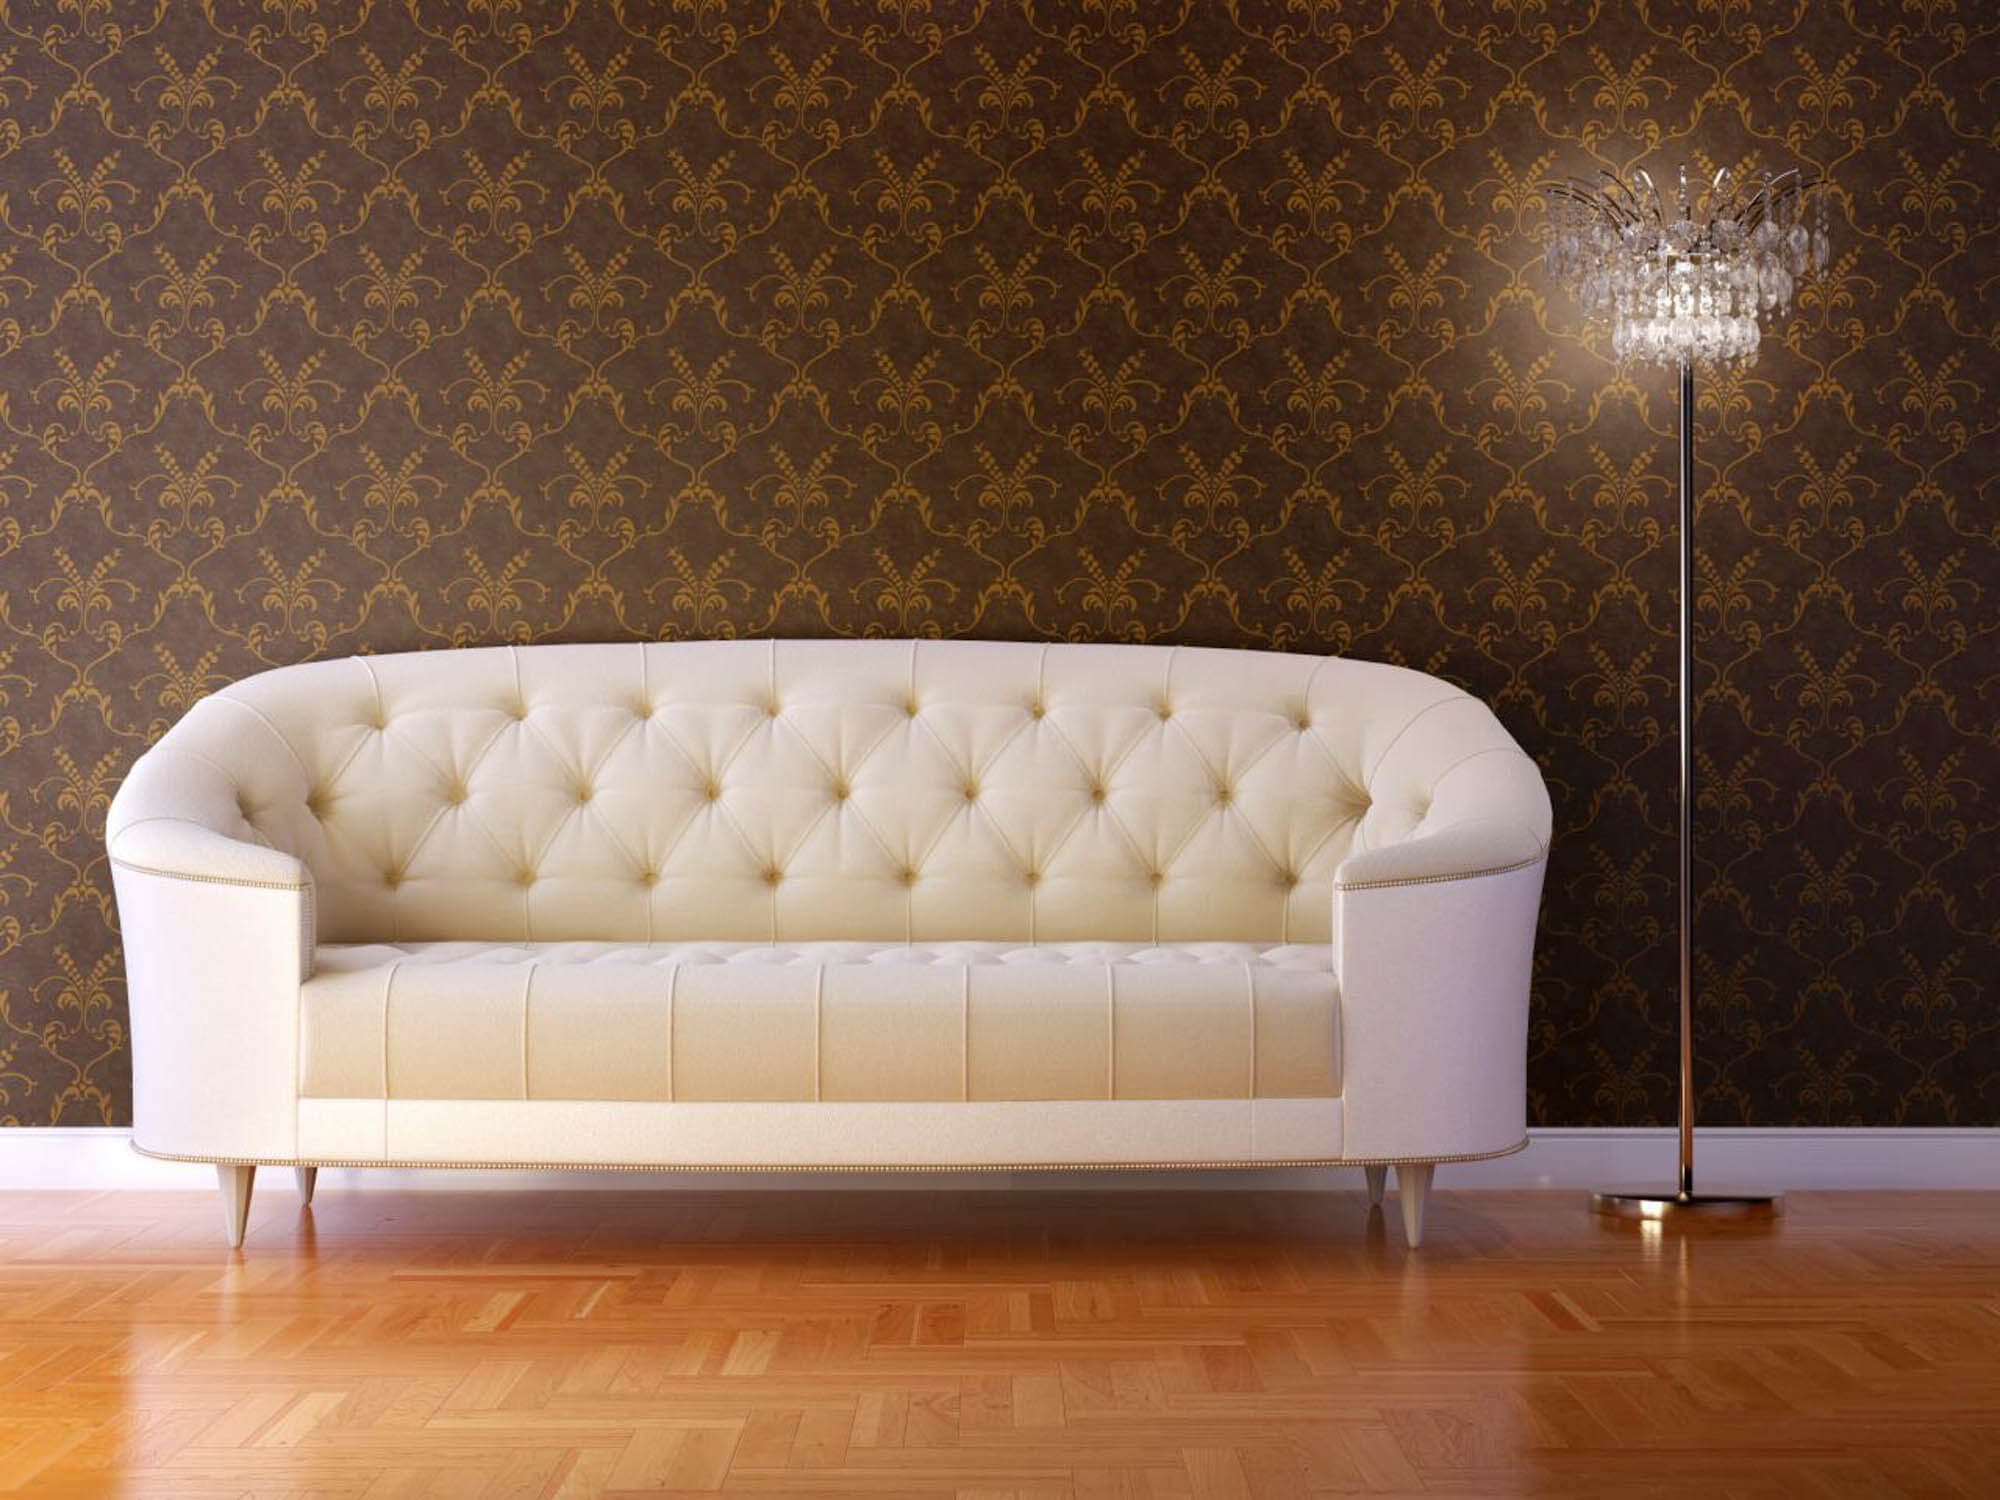chairs: (101, 648, 1556, 1267)
